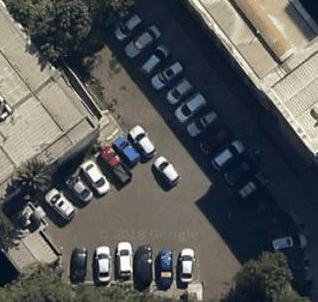parkingspot: (106, 11, 275, 211), (32, 125, 159, 235), (58, 243, 201, 285)
